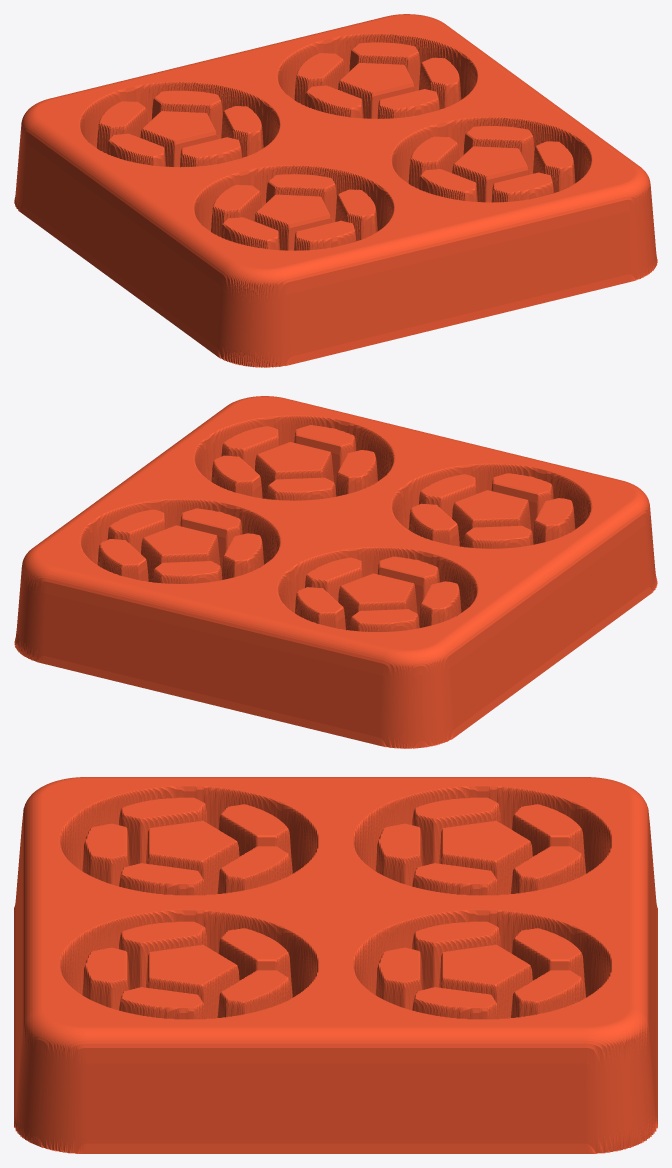
File: mold.glb
The picture shows the model from 3 angles, top to bottom: view 1: azimuth 30°, elevation 25°; view 2: azimuth 150°, elevation 25°; view 3: azimuth 270°, elevation 25°; orthographic projection. The views are drawn at different scales.
Visible parts, largest first — view 1: geometry_0; view 2: geometry_0; view 3: geometry_0.
Boxes of the visible parts, <box> form: geometry_0: <box>14,14,657,367</box>; geometry_0: <box>14,396,657,748</box>; geometry_0: <box>14,777,657,1153</box>.
Size of the model in its own units: 0.0808 by 0.0159 by 0.0808.
